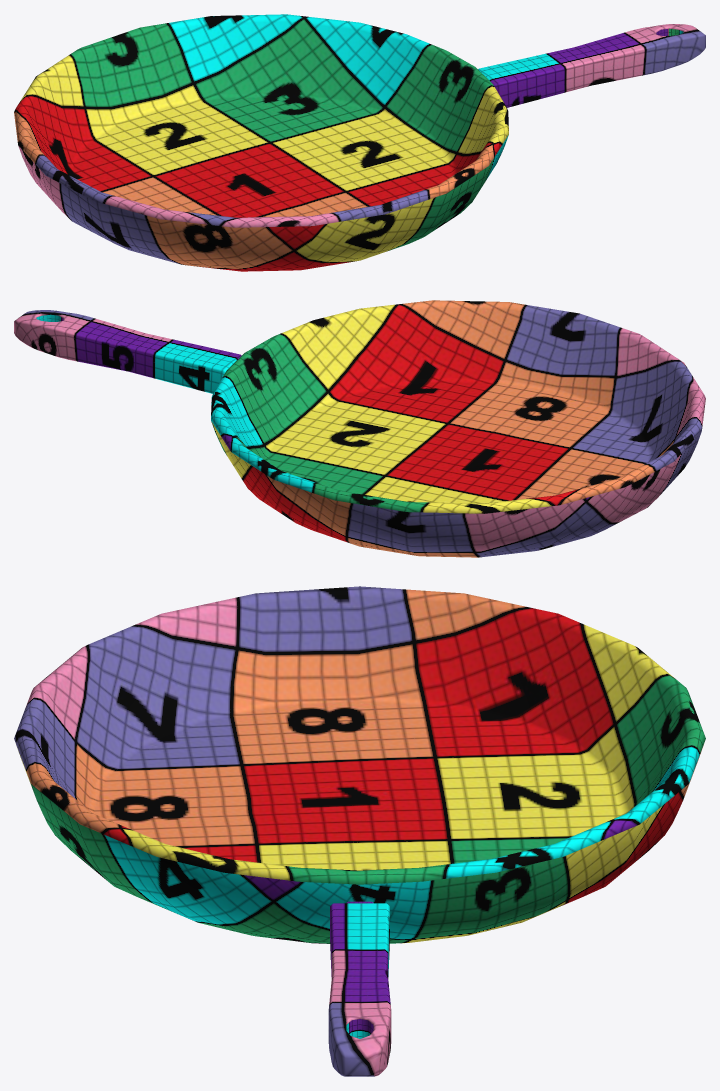
File: SM_Pan.fbx
3 renders of one model, top to bottom at view 1: azimuth 30°, elevation 25°; view 2: azimuth 150°, elevation 25°; view 3: azimuth 270°, elevation 25°, orthographic. The views are drawn at different scales.
Visible parts, largest first — view 1: pan; view 2: pan; view 3: pan.
Part boxes in pixels (box(x1,y1,x2,y2)): pan: box(14, 14, 705, 271); pan: box(14, 300, 705, 557); pan: box(14, 586, 705, 1076).
Size of the model in its own units: 1.66 by 0.1842 by 1.09.
1 material, 1 textured.
